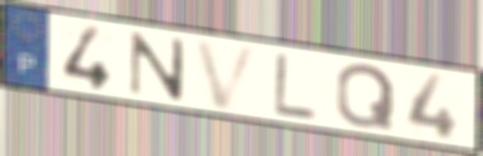4: (403, 70, 465, 143), (59, 22, 115, 92)
L: (271, 49, 319, 123)
N: (126, 29, 188, 103)
Q: (333, 62, 398, 130)
V: (190, 36, 264, 112)
